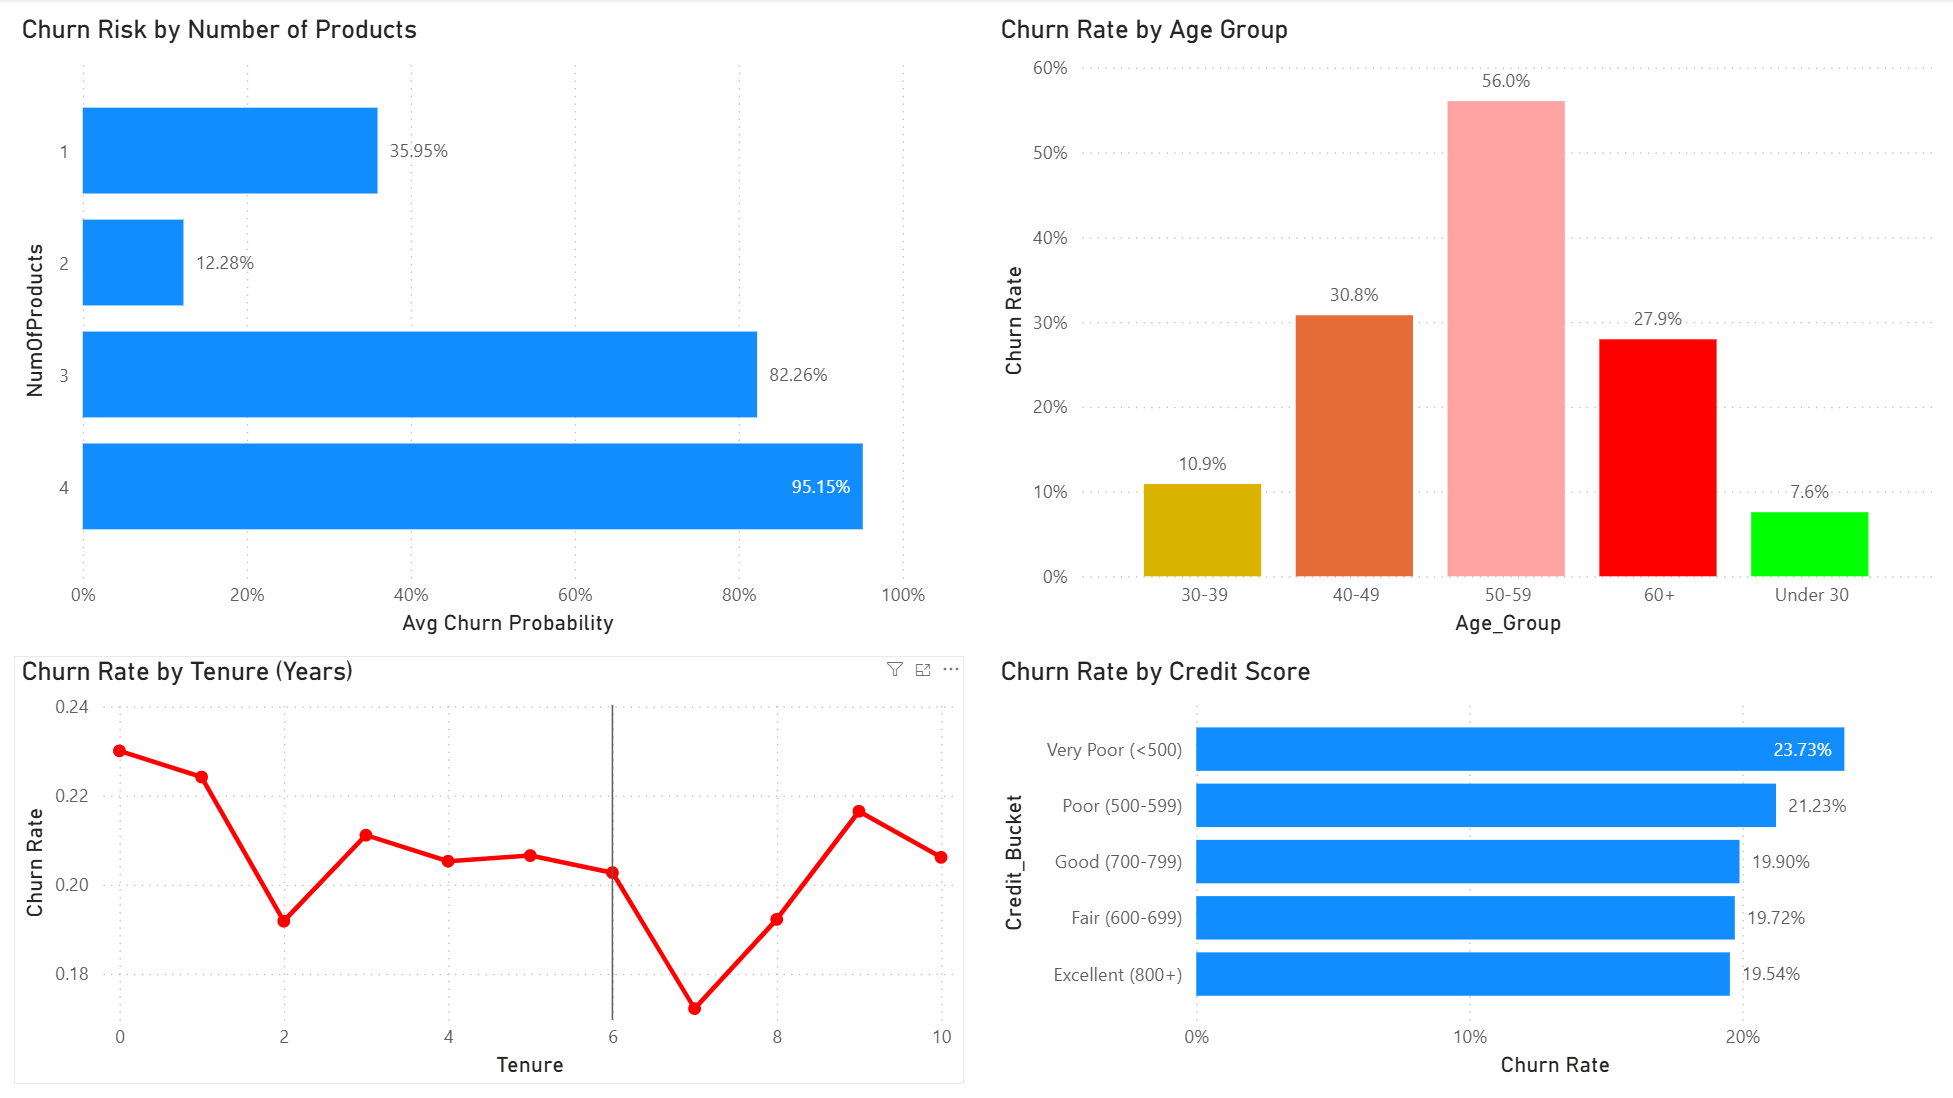

This screenshot's page, from the dashboard's own definition file:
{"tool":"powerbi","page":{"name":"Churn Drivers","canvas":[1280,720],"ordinal":2},"visuals":[{"type":"clusteredBarChart","title":"Churn Risk by Number of Products","fields":{"Y":["powerbi_export.Avg Churn Probability"],"Category":["powerbi_export.NumOfProducts"]},"box":[9.8,9.8,621.7,411],"z":0},{"type":"clusteredColumnChart","title":"Churn Rate by Age Group","fields":{"Category":["powerbi_export.Age_Group"],"Y":["powerbi_export.Churn Rate"]},"box":[650.5,9.8,620.4,411],"z":1000},{"type":"lineChart","title":"Churn Rate by Tenure (Years)","fields":{"Category":["powerbi_export.Tenure"],"Y":["powerbi_export.Churn Rate"]},"box":[9.8,429.9,621.7,280.1],"z":2000},{"type":"clusteredBarChart","title":"Churn Rate by Credit Score","fields":{"Category":["powerbi_export.Credit_Bucket"],"Y":["powerbi_export.Churn Rate"]},"box":[650.5,429.9,620.4,280.1],"z":3000}]}

Visuals, with their boxes in screenshot pixels (x1, y1, x2, y2), scaled from the page's 1280x720 canvas onto the 1953x1098 screenshot:
"Churn Risk by Number of Products" clusteredBarChart: 15 15 964 642
"Churn Rate by Age Group" clusteredColumnChart: 993 15 1939 642
"Churn Rate by Tenure (Years)" lineChart: 15 656 964 1083
"Churn Rate by Credit Score" clusteredBarChart: 993 656 1939 1083
